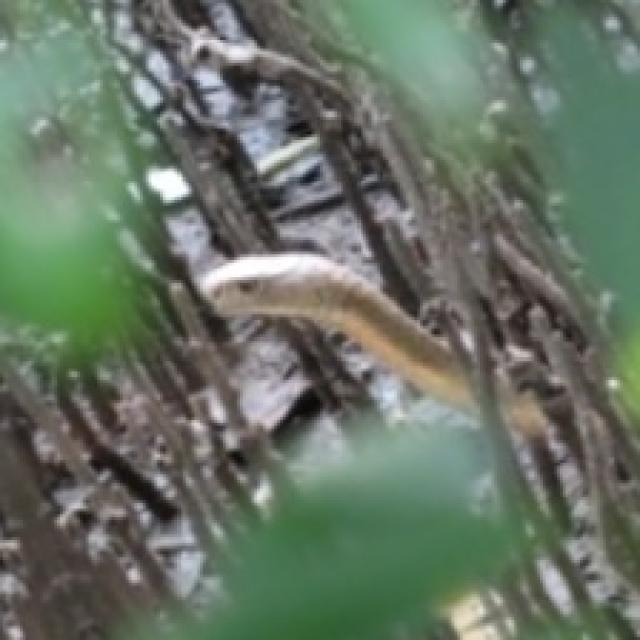king cobra: (0, 0, 637, 637), (477, 0, 557, 117)
